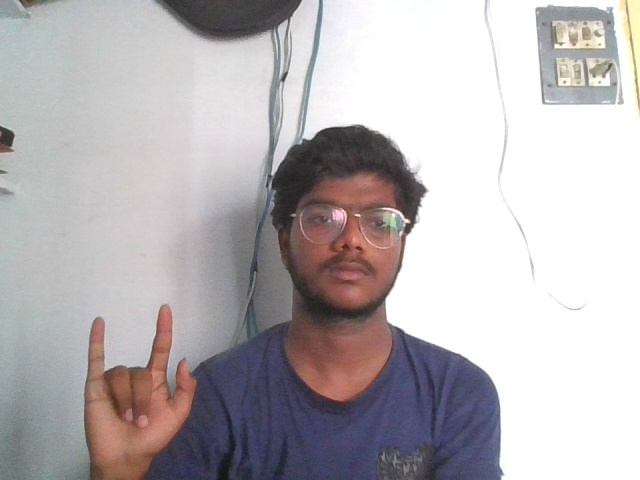IloveYou: (75, 298, 198, 469)
